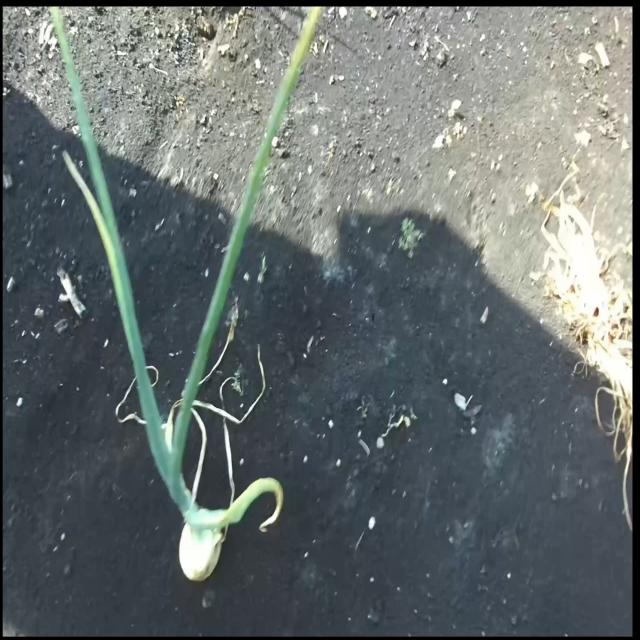onion: (178, 512, 227, 585)
